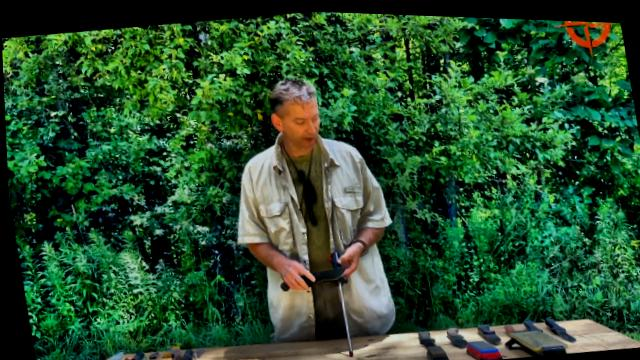knife: (272, 260, 347, 292)
